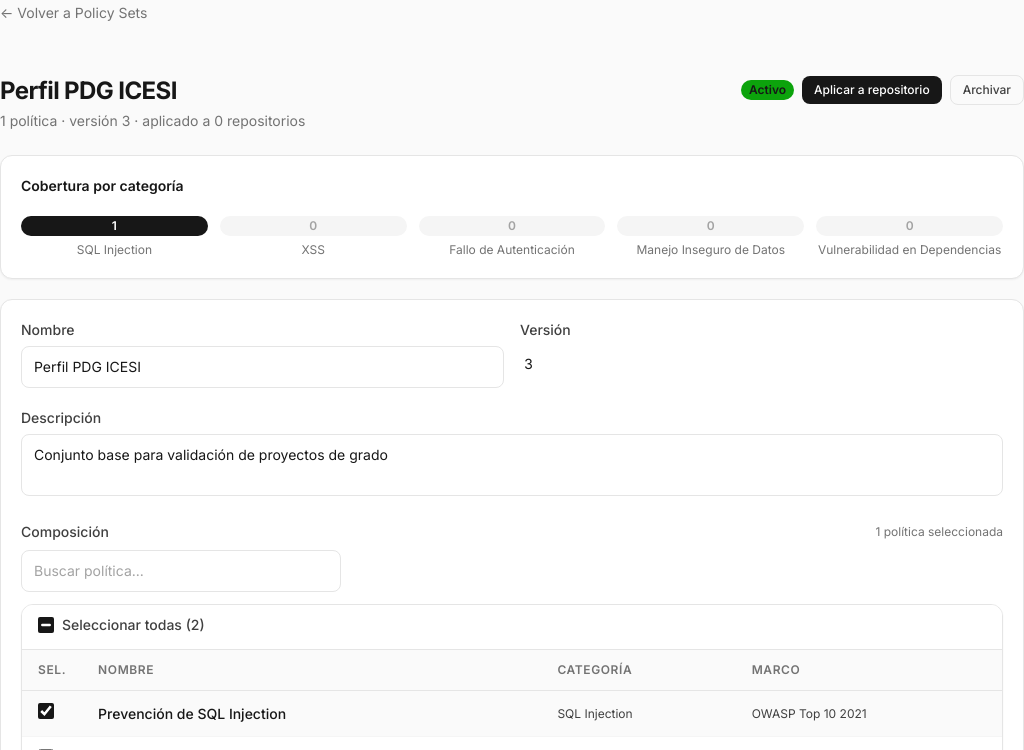
it: PolicySetDetailPage lifecycle UI › subtarea 5: "Aplicar a repositorio" navigates to the Dashboard with this Policy Set preselected
Expected: the field showing "Perfil PDG ICESI" is shown, top-left (21, 346), bottom-right (504, 388)
Click the button "Aplicar a repositorio" at (872, 90), box top-left (802, 76), bottom-right (942, 104)
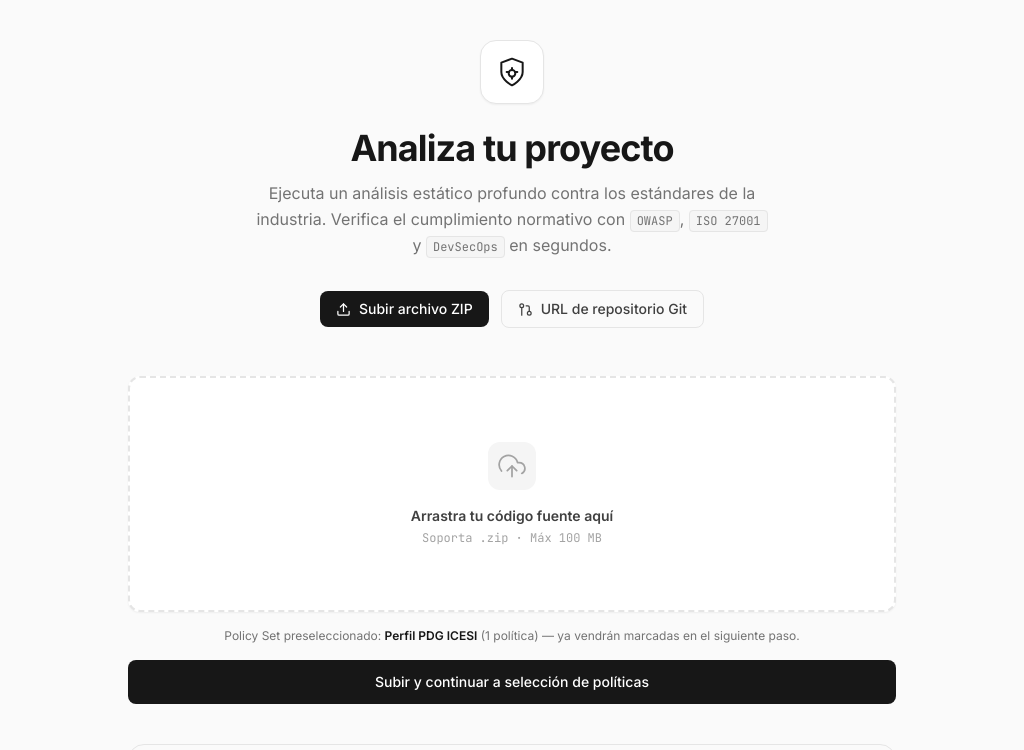
Now the text "Policy Set preseleccionado" is shown, box top-left (224, 628), bottom-right (385, 643)
